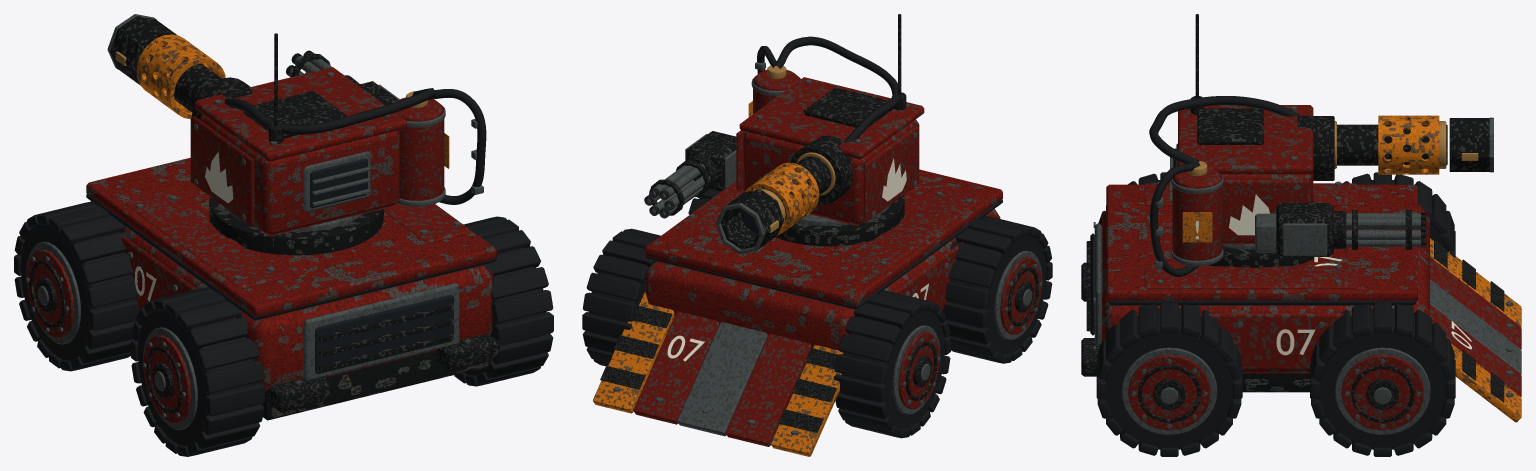
File: flamebot_07.glb
The picture shows the model from 3 angles, left to right: view 1: azimuth 30°, elevation 25°; view 2: azimuth 150°, elevation 25°; view 3: azimuth 270°, elevation 25°; orthographic projection. The views are drawn at different scales.
Parts seen in each view (by area): view 1: Chassis_Mesh, TurretYaw_Mesh, WheelLeftRear_Mesh, WheelLeftFront_Mesh, WheelRightRear_Mesh, MinigunSpin_Mesh; view 2: Chassis_Mesh, TurretYaw_Mesh, WheelLeftFront_Mesh, WheelLeftRear_Mesh, WheelRightFront_Mesh, MinigunSpin_Mesh; view 3: Chassis_Mesh, TurretYaw_Mesh, WheelRightRear_Mesh, WheelRightFront_Mesh, MinigunSpin_Mesh, WheelLeftFront_Mesh.
Part boxes in pixels (x1,y1,x2,y2): Chassis_Mesh: (86, 157, 499, 420); TurretYaw_Mesh: (107, 14, 486, 236); WheelLeftRear_Mesh: (131, 287, 265, 456); WheelLeftFront_Mesh: (14, 201, 140, 371); WheelRightRear_Mesh: (454, 216, 553, 386); MinigunSpin_Mesh: (286, 50, 359, 84); Chassis_Mesh: (593, 169, 1002, 456); TurretYaw_Mesh: (685, 14, 924, 254); WheelLeftFront_Mesh: (833, 290, 950, 438); WheelLeftRear_Mesh: (942, 215, 1052, 363); WheelRightFront_Mesh: (582, 228, 660, 366); MinigunSpin_Mesh: (644, 154, 718, 218); Chassis_Mesh: (1081, 181, 1521, 422); TurretYaw_Mesh: (1149, 14, 1493, 276); WheelRightRear_Mesh: (1096, 303, 1242, 456); WheelRightFront_Mesh: (1310, 303, 1455, 456); MinigunSpin_Mesh: (1332, 210, 1426, 249); WheelLeftFront_Mesh: (1343, 172, 1455, 257).
Bounding box in the file's own units: 2.09 × 2.04 × 2.37.
8 materials, 4 textured.
